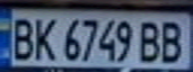4: (97, 16, 118, 62)
6: (60, 15, 81, 62)
7: (78, 16, 100, 62)
9: (112, 17, 139, 62)
B: (157, 17, 190, 64), (6, 15, 36, 61), (136, 17, 166, 63)
K: (30, 15, 57, 62)
